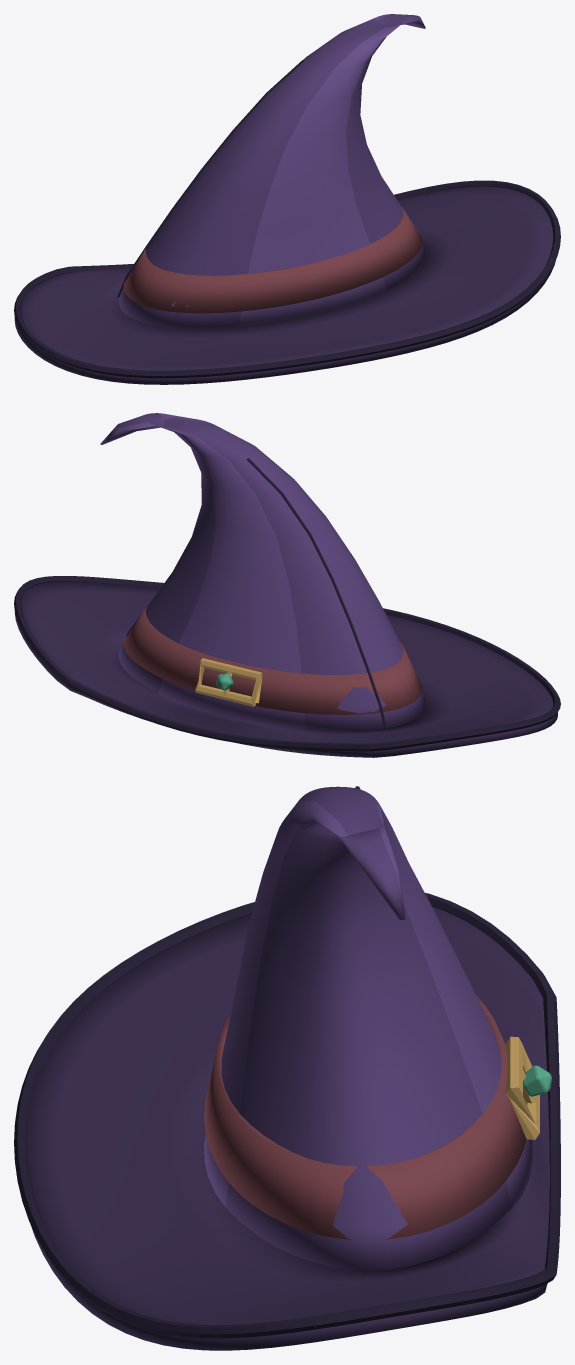
Rendered from witch.fbx.
3 views of the same model, one above another, from view 1: azimuth 30°, elevation 25°; view 2: azimuth 150°, elevation 25°; view 3: azimuth 270°, elevation 25° (orthographic). The views are drawn at different scales.
Visible parts, largest first — view 1: witch_armor; view 2: witch_armor; view 3: witch_armor.
Boxes of the visible parts, x1=… form: witch_armor: x1=14, y1=14, x2=560, y2=384; witch_armor: x1=14, y1=413, x2=560, y2=757; witch_armor: x1=14, y1=786, x2=560, y2=1350.
Bounding box in the file's own units: 5.17 × 2.44 × 2.66.
Materials: 1 (1 with a texture image).
